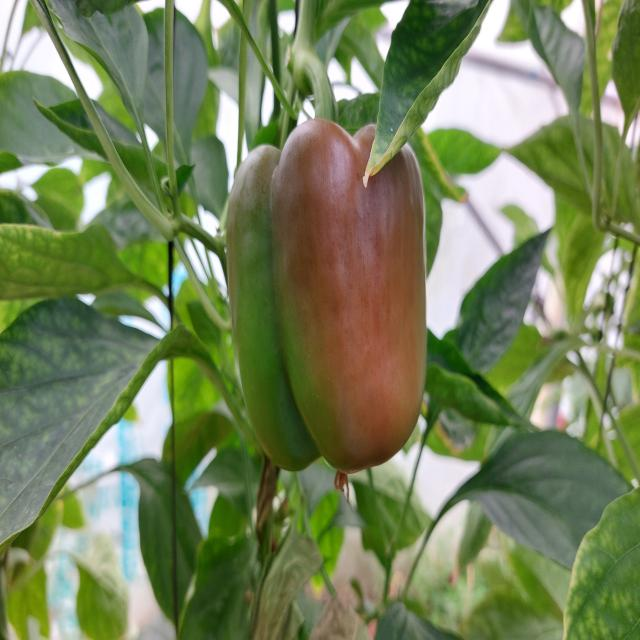BrownishRed--Can-be-Harvested: (234, 140, 426, 465)
